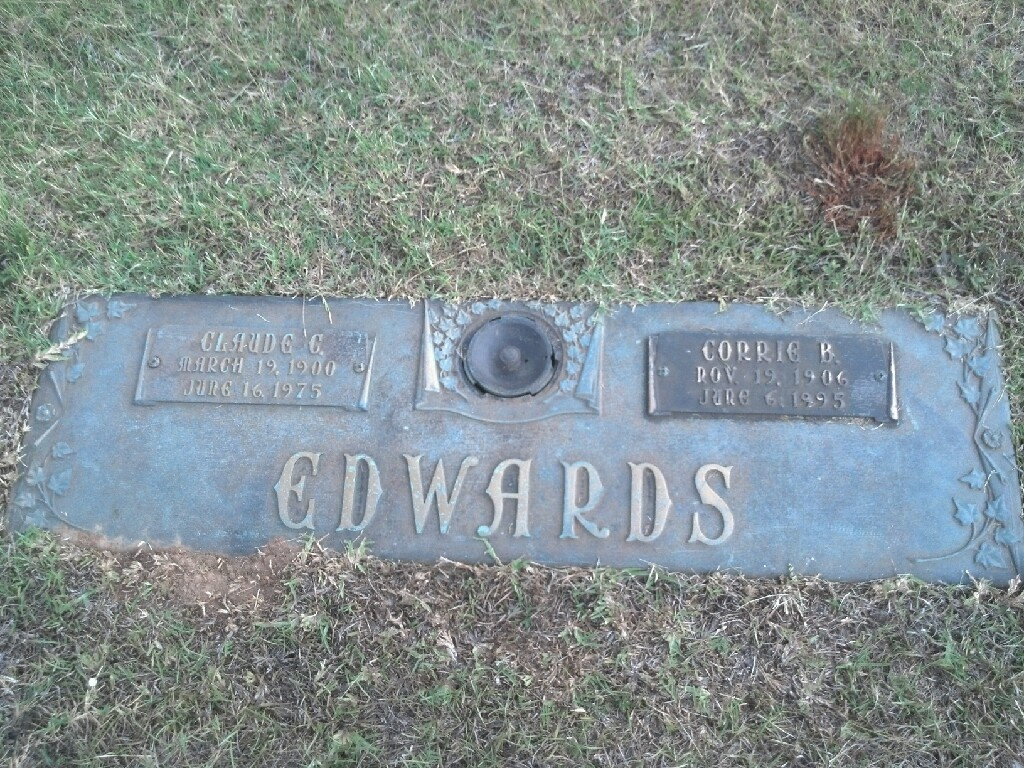flat: (0, 270, 1024, 581)
